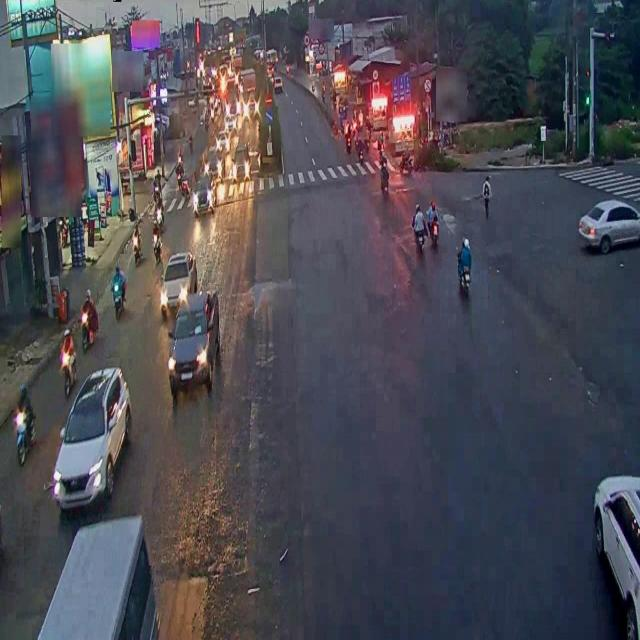car: (50, 362, 134, 507), (167, 286, 219, 395), (160, 246, 196, 313)
motorcycle: (9, 383, 39, 472), (456, 234, 474, 305), (77, 284, 97, 346), (60, 322, 76, 390), (109, 262, 127, 316), (413, 205, 427, 256)
truck: (31, 493, 169, 640)
